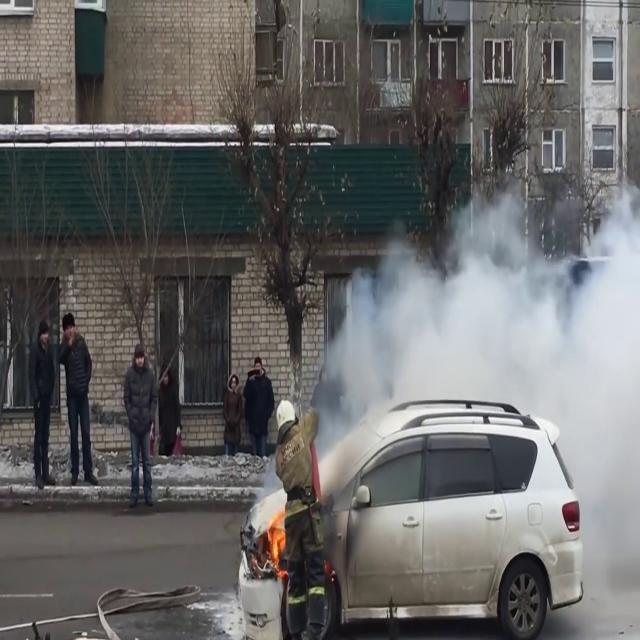Fire: (262, 503, 290, 578)
Smoke: (312, 173, 640, 526)
